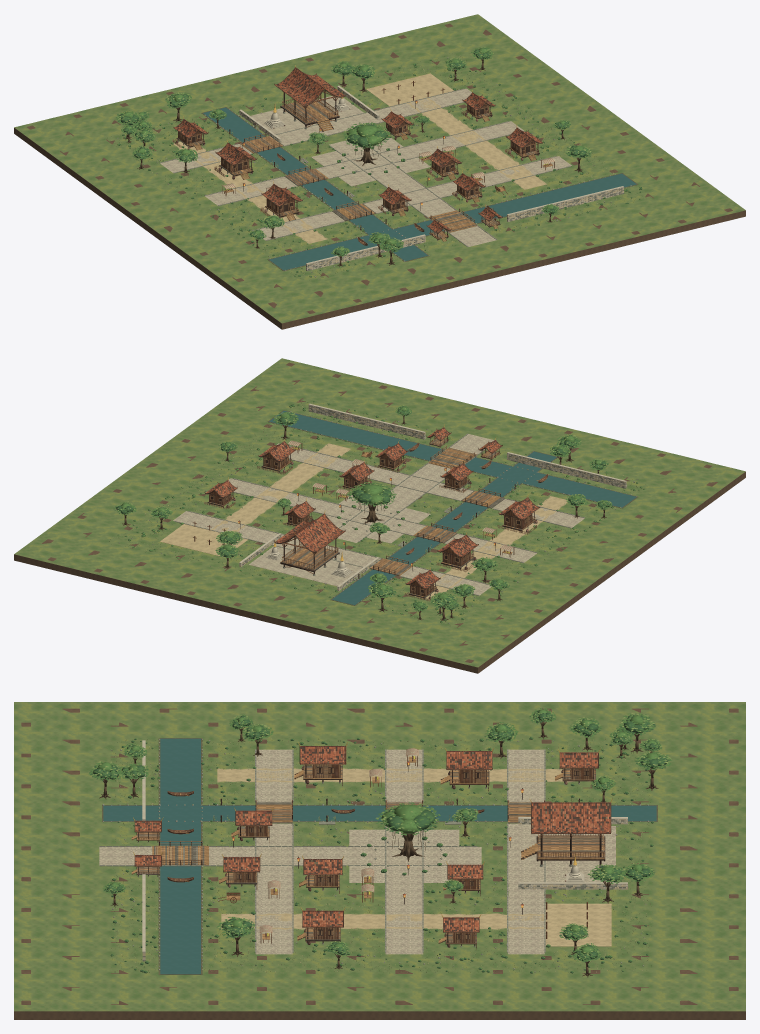
The model's file is ayutthaya.glb.
3 renders of one model, top to bottom at view 1: azimuth 30°, elevation 25°; view 2: azimuth 150°, elevation 25°; view 3: azimuth 270°, elevation 25°, orthographic. The views are drawn at different scales.
Parts seen in each view (by area): view 1: Ground - varied meadow | grass, Streets - stone | paving, Soil foundation | earth, Water surface | water, Tracks - worn earth | path, Roof / overlapping clay tiles | roof, Courtyard paving | paving, Organic tree foliage | leaf, Weathered curb stones | stone, Fine outer tree leaves | leaf2, Roof / closed timber underlay | roof_under, Fine outer tree leaves | leaf4 (+24 smaller); view 2: Ground - varied meadow | grass, Streets - stone | paving, Soil foundation | earth, Water surface | water, Tracks - worn earth | path, Roof / overlapping clay tiles | roof, Courtyard paving | paving, Organic tree foliage | leaf, Fine outer tree leaves | leaf2, Weathered curb stones | stone, Roof / closed timber underlay | roof_under, Fine outer tree leaves | leaf4 (+23 smaller); view 3: Ground - varied meadow | grass, Streets - stone | paving, Water surface | water, Soil foundation | earth, Roof / overlapping clay tiles | roof, Tracks - worn earth | path, Organic tree foliage | leaf, Roof / closed timber underlay | roof_under, Courtyard paving | paving, Fine outer tree leaves | leaf2, Fine outer tree leaves | leaf4, Weathered curb stones | stone (+34 smaller).
Part boxes in pixels (x1,y1,x2,y2): Ground - varied meadow | grass: [14, 14, 745, 323]; Streets - stone | paving: [160, 88, 571, 246]; Soil foundation | earth: [14, 23, 745, 329]; Water surface | water: [203, 107, 636, 270]; Tracks - worn earth | path: [176, 85, 544, 243]; Roof / overlapping clay tiles | roof: [174, 70, 541, 231]; Courtyard paving | paving: [250, 96, 430, 186]; Organic tree foliage | leaf: [119, 48, 588, 255]; Weathered curb stones | stone: [160, 88, 570, 246]; Fine outer tree leaves | leaf2: [116, 47, 591, 256]; Roof / closed timber underlay | roof_under: [177, 69, 540, 232]; Fine outer tree leaves | leaf4: [116, 47, 591, 256]; Ground - varied meadow | grass: [14, 358, 745, 667]; Streets - stone | paving: [173, 434, 584, 595]; Soil foundation | earth: [14, 362, 745, 673]; Water surface | water: [269, 411, 636, 605]; Tracks - worn earth | path: [195, 444, 567, 599]; Roof / overlapping clay tiles | roof: [206, 429, 538, 588]; Courtyard paving | paving: [248, 495, 430, 586]; Organic tree foliage | leaf: [116, 406, 610, 610]; Fine outer tree leaves | leaf2: [114, 405, 612, 611]; Weathered curb stones | stone: [175, 433, 584, 595]; Roof / closed timber underlay | roof_under: [207, 428, 538, 586]; Fine outer tree leaves | leaf4: [114, 405, 611, 610]; Ground - varied meadow | grass: [14, 702, 745, 1011]; Streets - stone | paving: [99, 749, 544, 954]; Water surface | water: [103, 738, 656, 974]; Soil foundation | earth: [14, 708, 745, 1019]; Roof / overlapping clay tiles | roof: [135, 746, 610, 931]; Tracks - worn earth | path: [217, 769, 595, 927]; Organic tree foliage | leaf: [92, 710, 667, 960]; Roof / closed timber underlay | roof_under: [135, 747, 610, 931]; Courtyard paving | paving: [349, 826, 615, 882]; Fine outer tree leaves | leaf2: [88, 708, 671, 961]; Fine outer tree leaves | leaf4: [89, 708, 672, 961]; Weathered curb stones | stone: [99, 749, 545, 952].
Size of the model in its own units: 180 by 18.12 by 180.
Materials: 40 (40 with a texture image).
